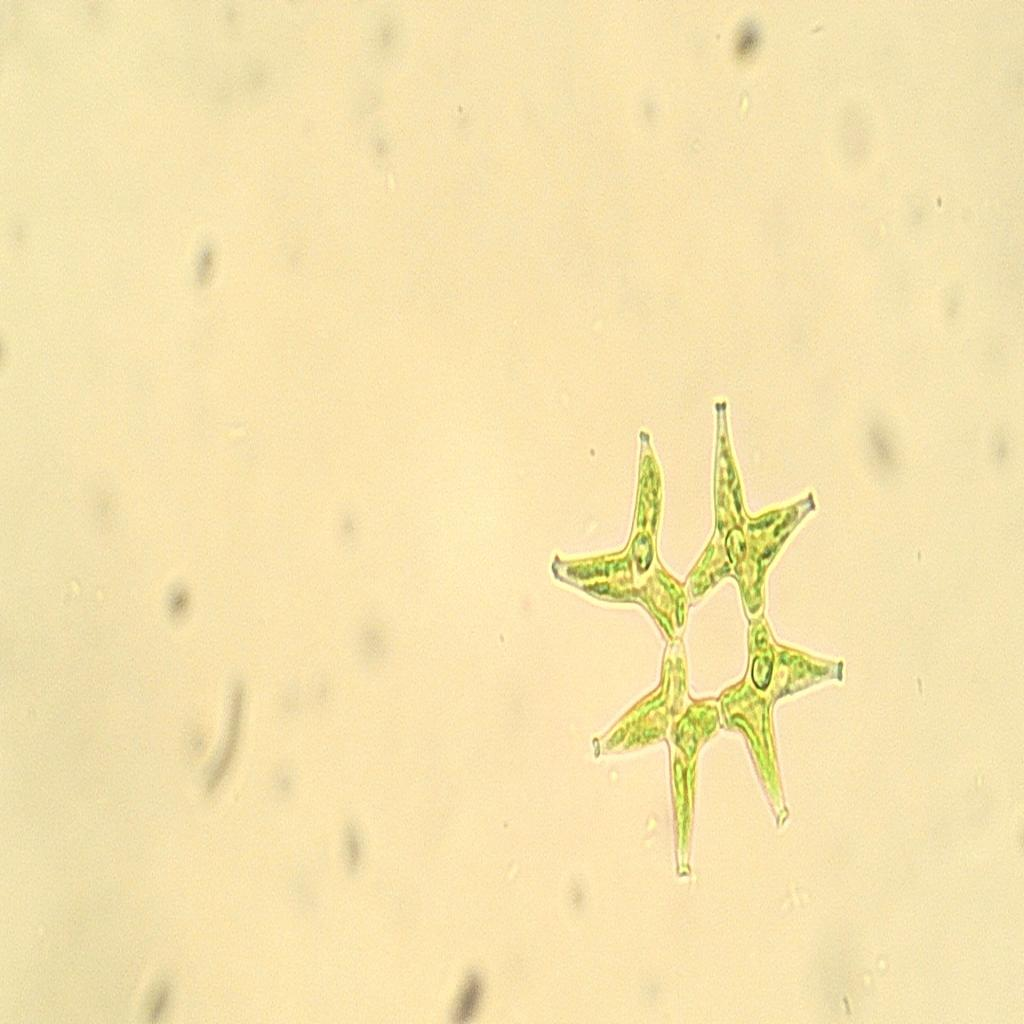Pediastrum_CT: (543, 382, 864, 896)
